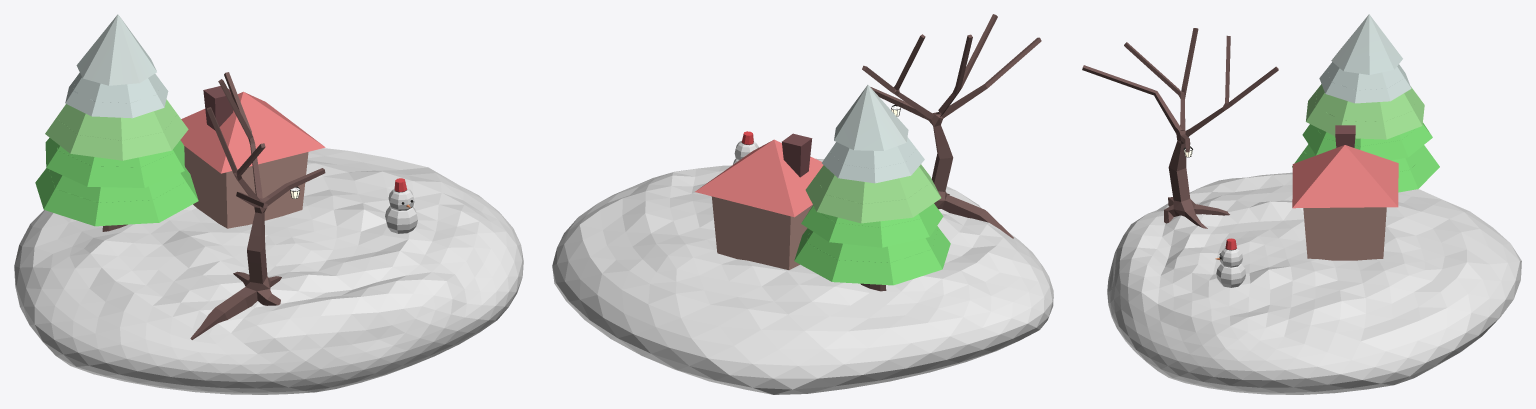
Rendered from snow.gltf.
3 renders of one model, left to right at view 1: azimuth 30°, elevation 25°; view 2: azimuth 150°, elevation 25°; view 3: azimuth 270°, elevation 25°, orthographic. The views are drawn at different scales.
Parts seen in each view (by area): view 1: ground, Cylinder.002, Cube.004, Cone.001, Cylinder.004, Cube, Cylinder.003, Cylinder.006, Cylinder.005, Cube.001, Sphere, Sphere.001; view 2: ground, Cylinder.002, Cylinder.004, Cone.001, Cube.004, Cube, Cylinder.003, Cylinder.006, Cylinder.005, Cube.001; view 3: ground, Cone.001, Cube.004, Cube, Cylinder.004, Cylinder.005, Cylinder.006, Cylinder.003, Cylinder.002, Sphere, Cube.001.
Boxes of the visible parts, bbox=[...] form: ground: bbox=[14, 148, 523, 394]; Cylinder.002: bbox=[35, 167, 198, 226]; Cube.004: bbox=[190, 72, 325, 339]; Cone.001: bbox=[180, 91, 325, 173]; Cylinder.004: bbox=[45, 99, 188, 160]; Cube: bbox=[184, 146, 308, 228]; Cylinder.003: bbox=[45, 137, 184, 187]; Cylinder.006: bbox=[76, 14, 156, 85]; Cylinder.005: bbox=[65, 72, 168, 118]; Cube.001: bbox=[203, 86, 233, 130]; Sphere: bbox=[385, 206, 417, 233]; Sphere.001: bbox=[388, 188, 414, 210]; ground: bbox=[552, 158, 1053, 394]; Cylinder.002: bbox=[794, 226, 950, 285]; Cylinder.004: bbox=[805, 164, 941, 223]; Cone.001: bbox=[695, 139, 823, 217]; Cube.004: bbox=[862, 14, 1041, 238]; Cube: bbox=[711, 196, 812, 269]; Cylinder.003: bbox=[801, 203, 943, 247]; Cylinder.006: bbox=[834, 85, 908, 150]; Cylinder.005: bbox=[822, 137, 924, 183]; Cube.001: bbox=[782, 133, 812, 177]; ground: bbox=[1107, 172, 1521, 394]; Cone.001: bbox=[1292, 145, 1398, 208]; Cube.004: bbox=[1082, 28, 1278, 228]; Cube: bbox=[1303, 207, 1386, 260]; Cylinder.004: bbox=[1306, 84, 1424, 139]; Cylinder.005: bbox=[1319, 62, 1411, 103]; Cylinder.006: bbox=[1331, 14, 1402, 74]; Cylinder.003: bbox=[1302, 123, 1432, 160]; Cylinder.002: bbox=[1292, 144, 1439, 192]; Sphere: bbox=[1216, 263, 1245, 287]; Cube.001: bbox=[1335, 125, 1355, 147].
Bounding box in the file's own units: 31.25 × 20.91 × 29.38.
